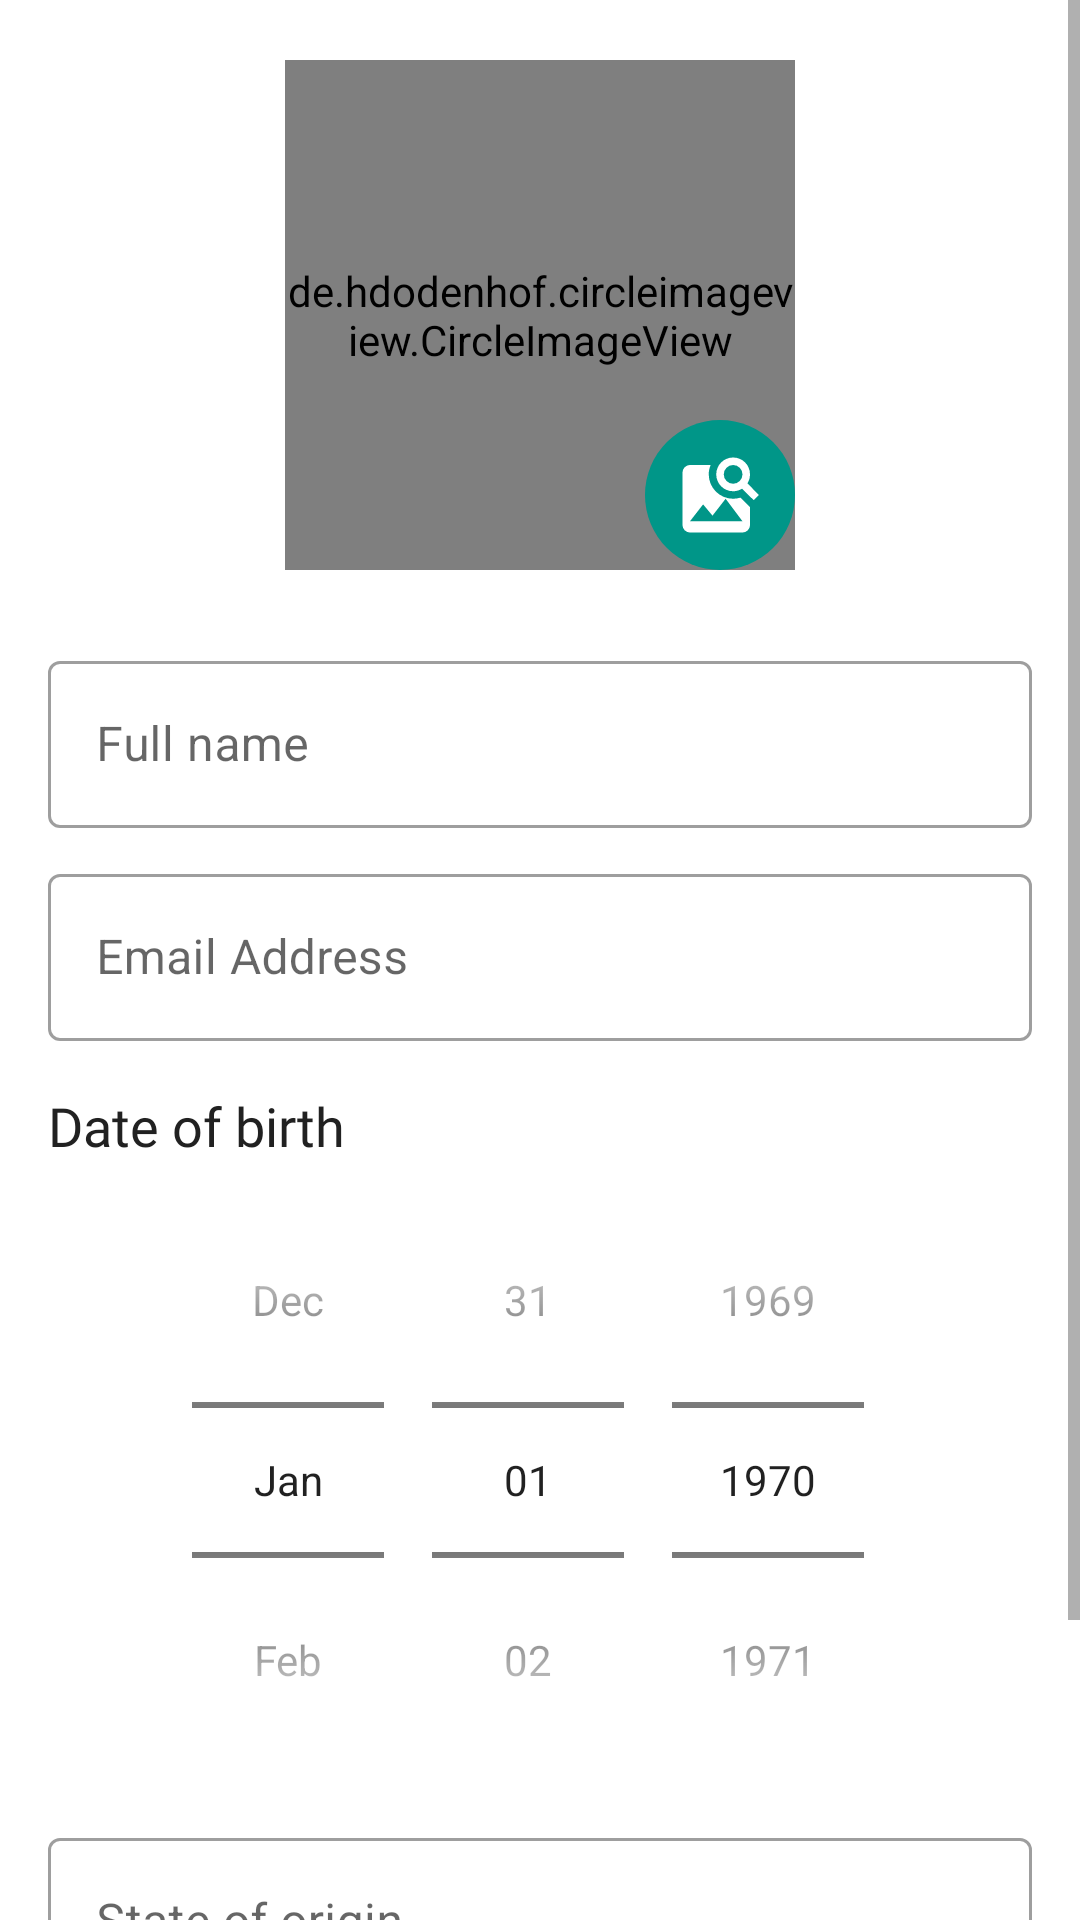

Named icons in this screenshot (1080*1920) and their centers, point (x, y):
galley: point (720, 495)
